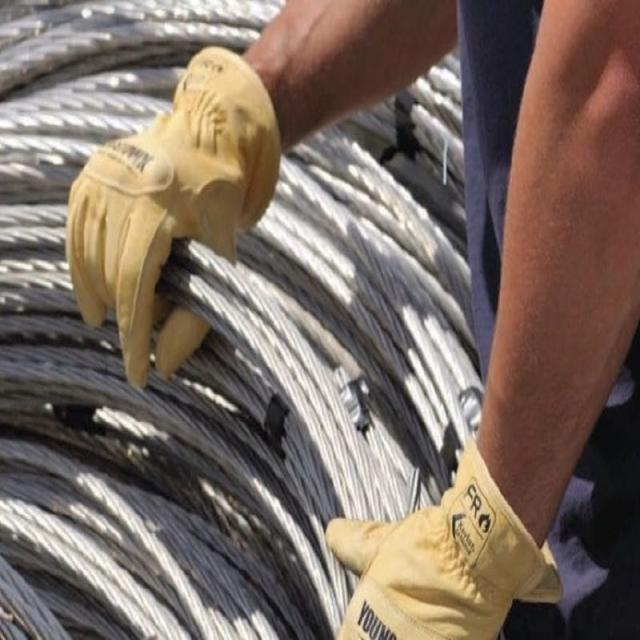gloves: (64, 44, 282, 392), (318, 424, 562, 640)
